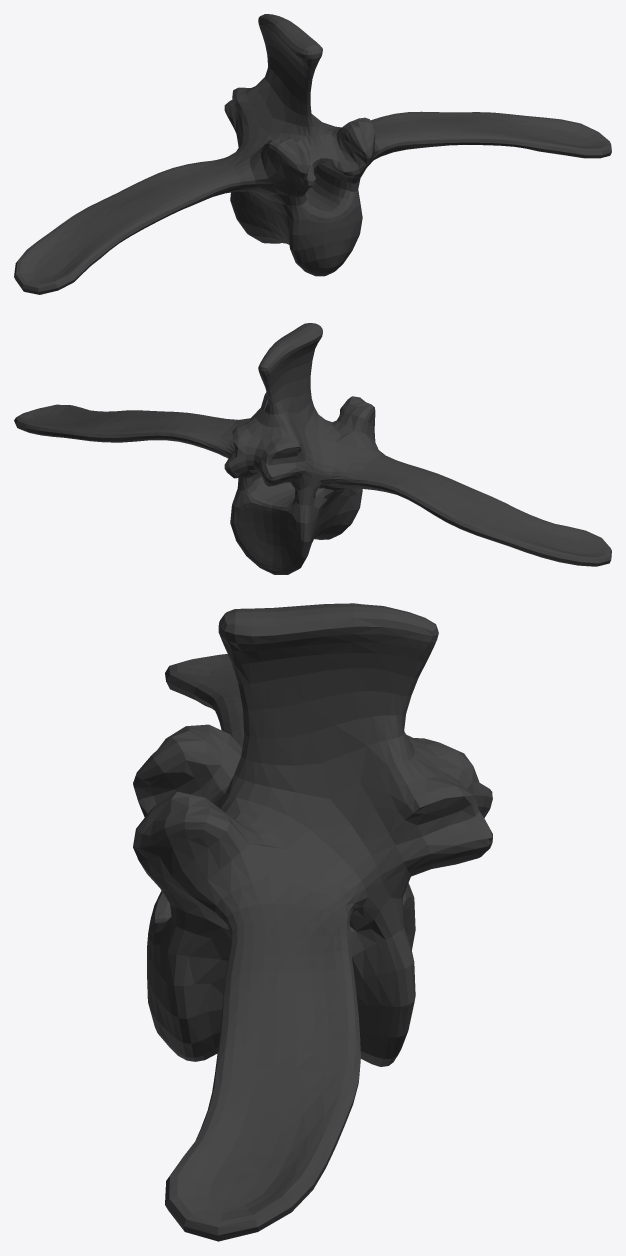
The picture shows the model from 3 angles, top to bottom: view 1: azimuth 30°, elevation 25°; view 2: azimuth 150°, elevation 25°; view 3: azimuth 270°, elevation 25°; orthographic projection. The views are drawn at different scales.
Visible parts, largest first — view 1: b_L5_LO; view 2: b_L5_LO; view 3: b_L5_LO.
Boxes of the visible parts, left/top/right/bottom form: b_L5_LO: left=14, top=14, right=611, bottom=294; b_L5_LO: left=14, top=323, right=611, bottom=574; b_L5_LO: left=133, top=603, right=492, bottom=1241.
Size of the model in its own units: 0.00338 by 0.00124 by 0.000894.
1 material, 1 textured.
